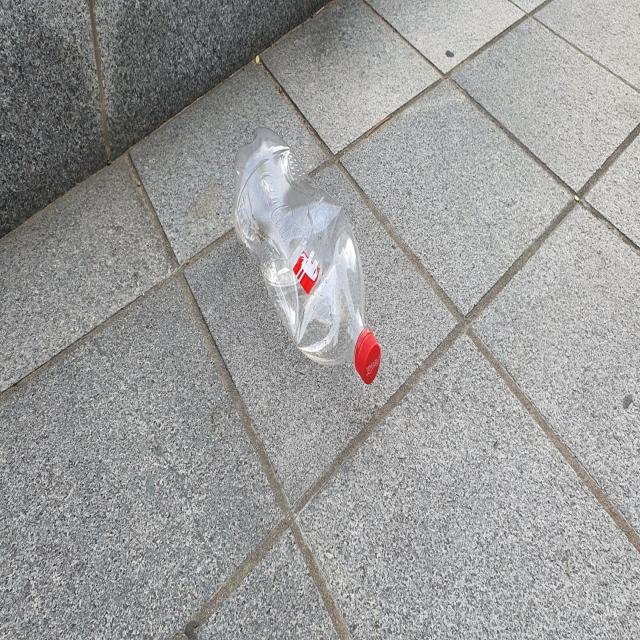plastic: (234, 126, 381, 383)
